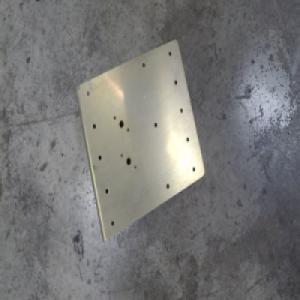MetalSheet: (74, 35, 206, 244)
